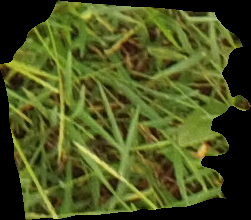grass: (1, 1, 249, 219)
